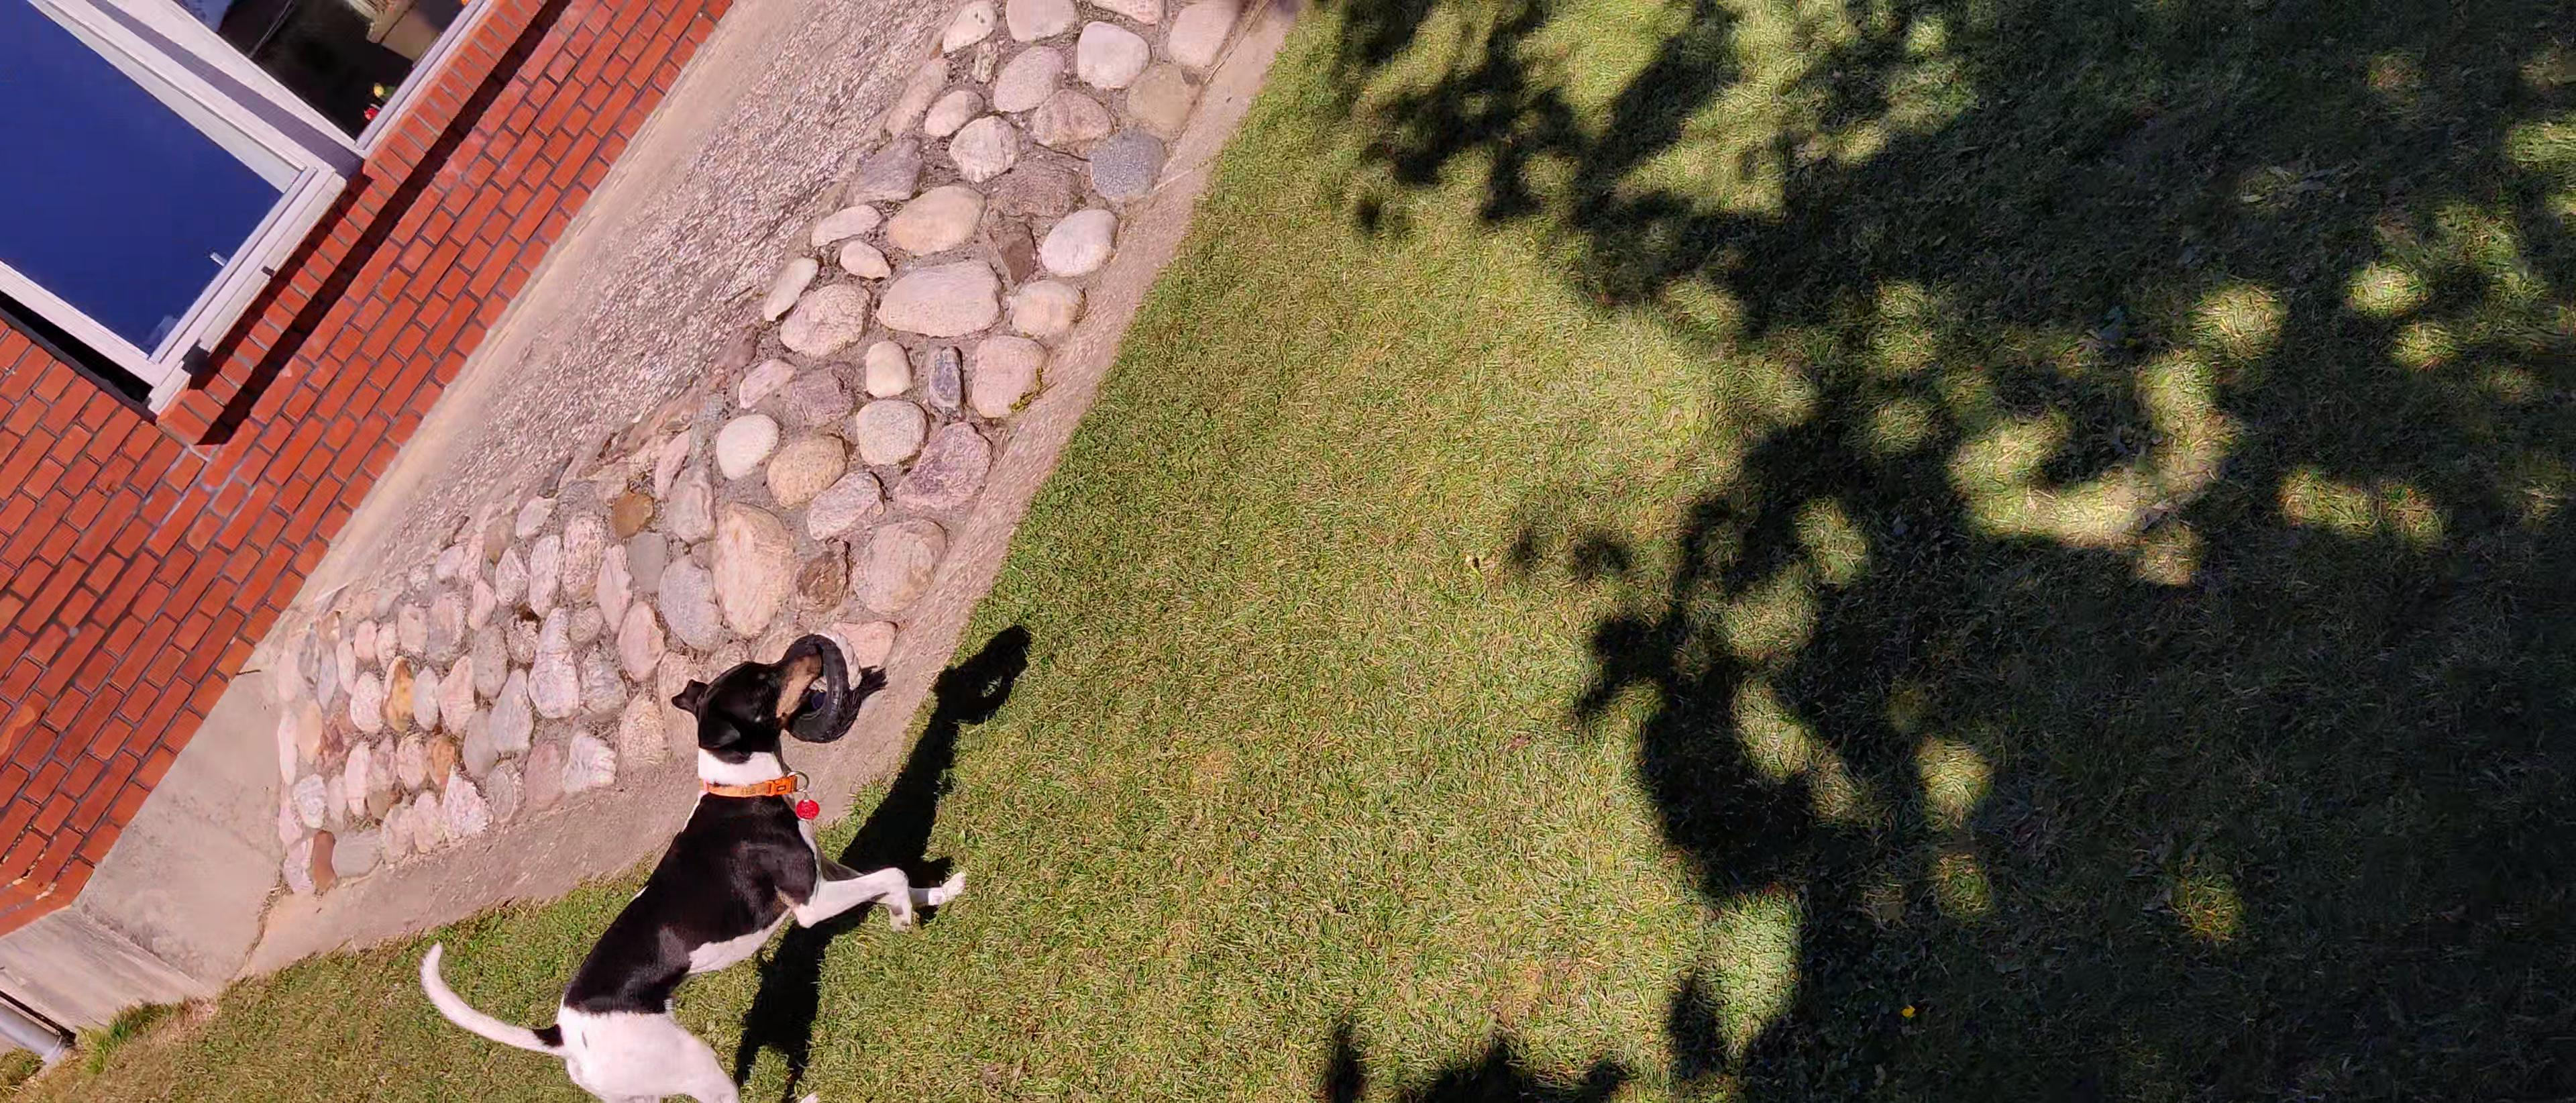Dog: (414, 639, 969, 1103)
